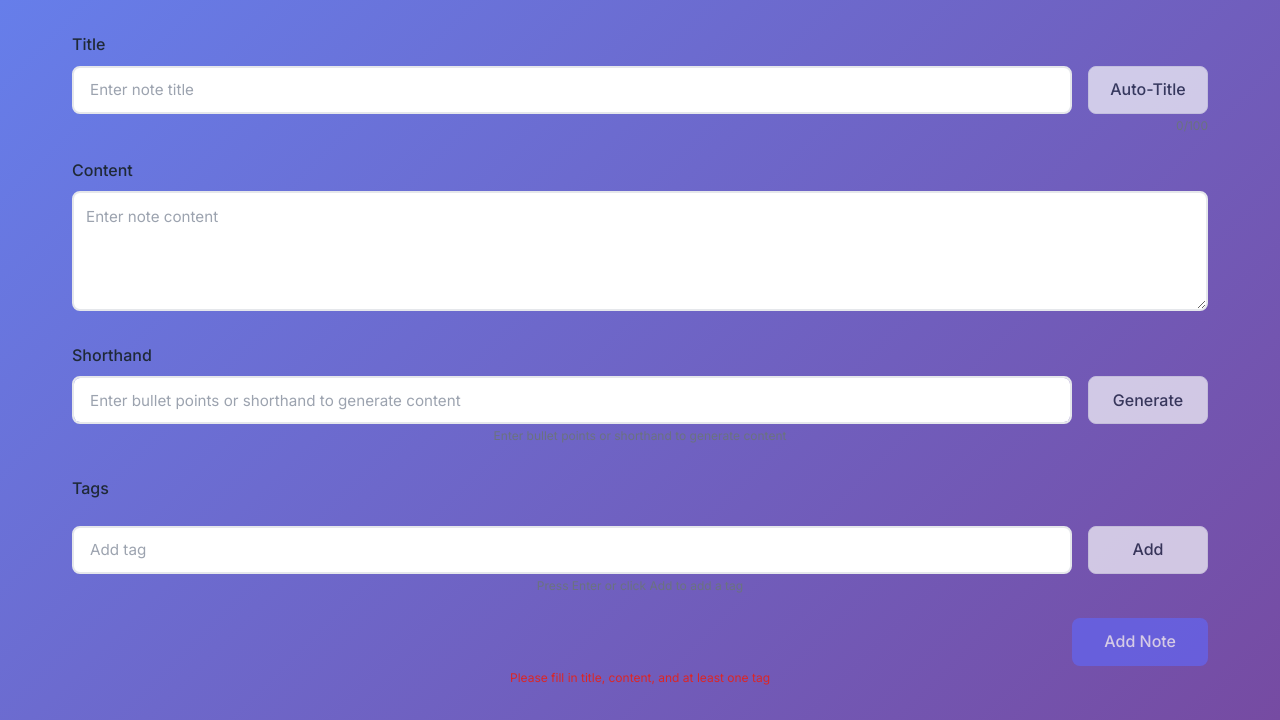
Test: AI Error Handling › shows loading state during AI operations
// Fill in content
In the text box with placeholder "Enter note content": (640, 251) top-left (72, 191), bottom-right (1208, 311), type "Test content"
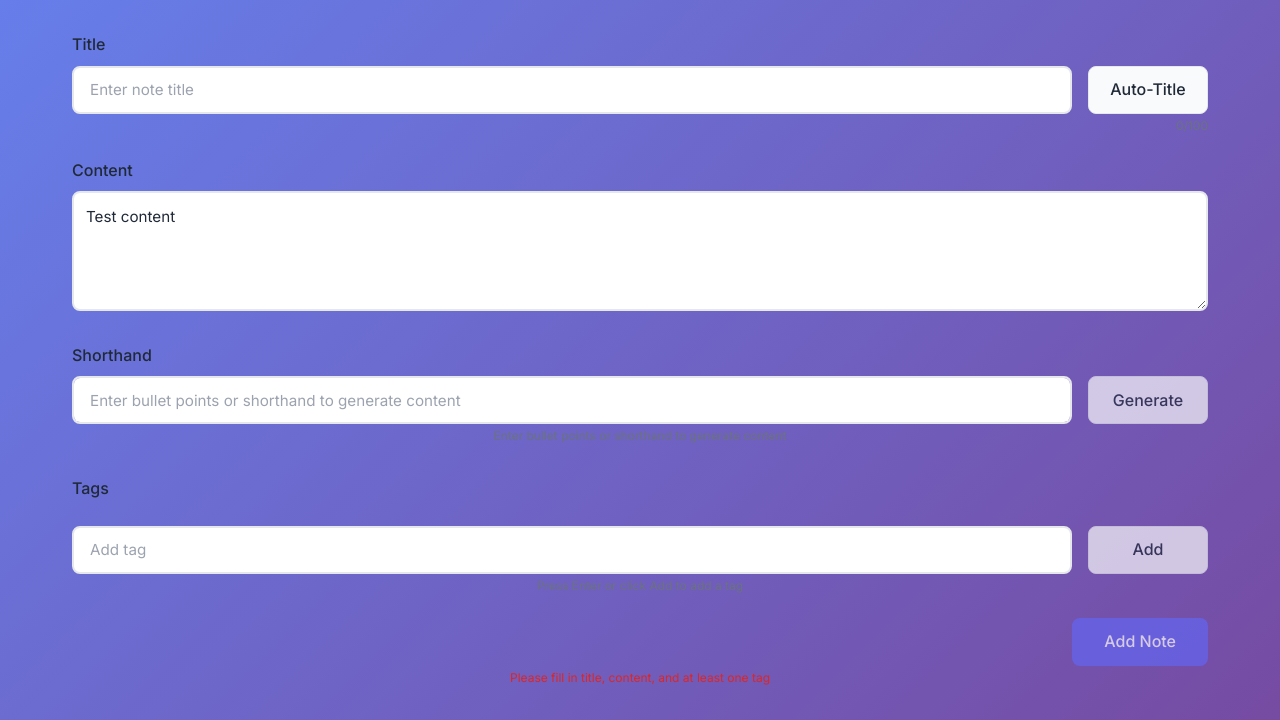
// Click auto-title button
Click the button "Auto-Title": (1148, 90) top-left (1088, 66), bottom-right (1208, 114)
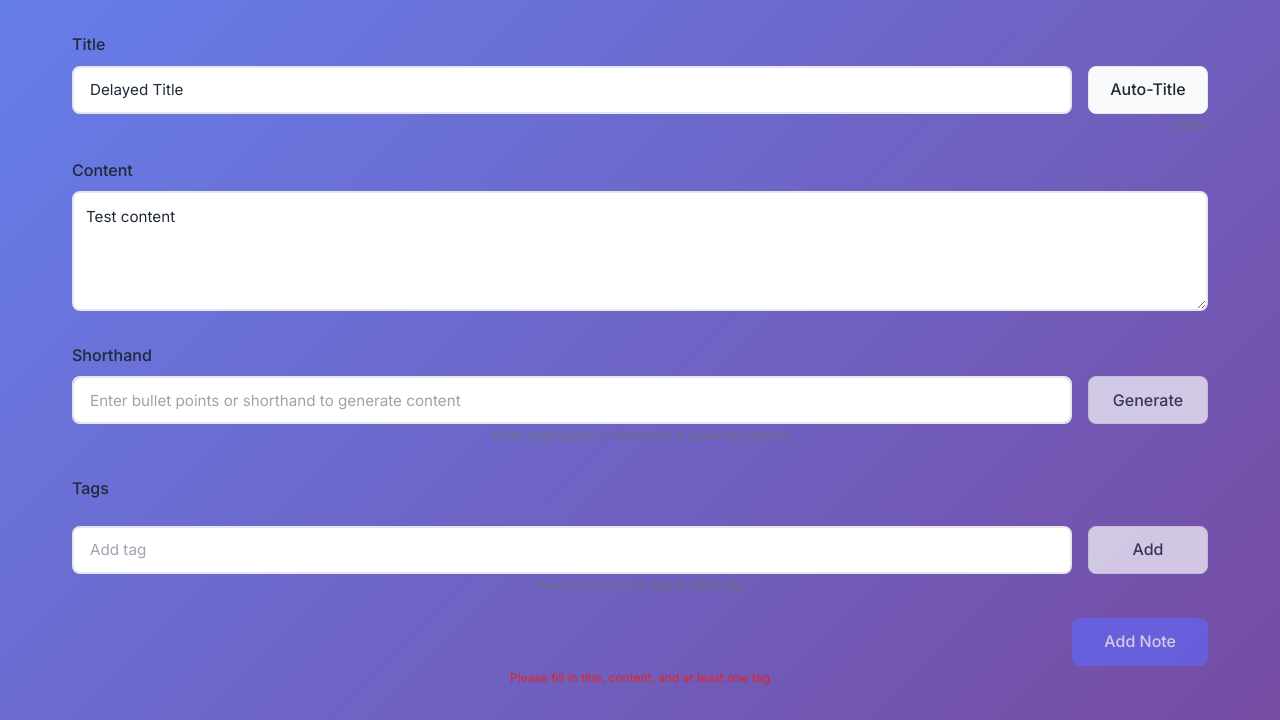
Expected: the field showing "Delayed Title" is shown, top-left (72, 66), bottom-right (1072, 114)
